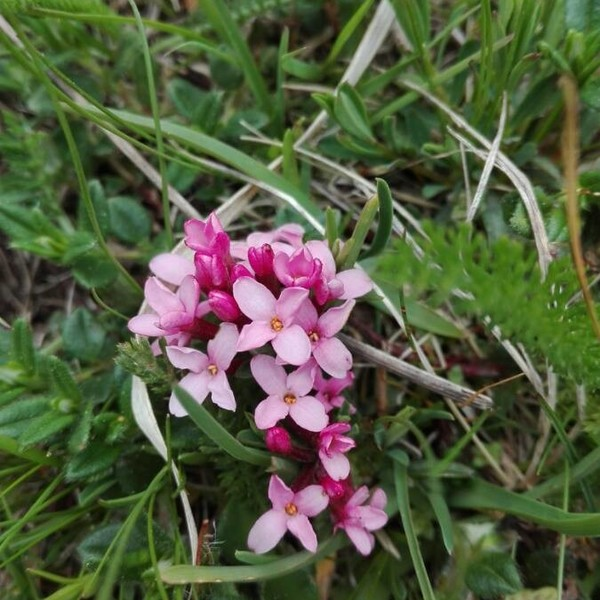obstacle: (131, 190, 422, 567)
